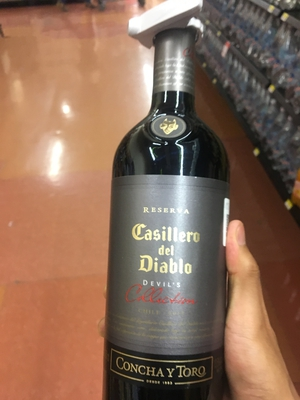casillero del diablo devils collection rojo: (92, 45, 245, 400)
